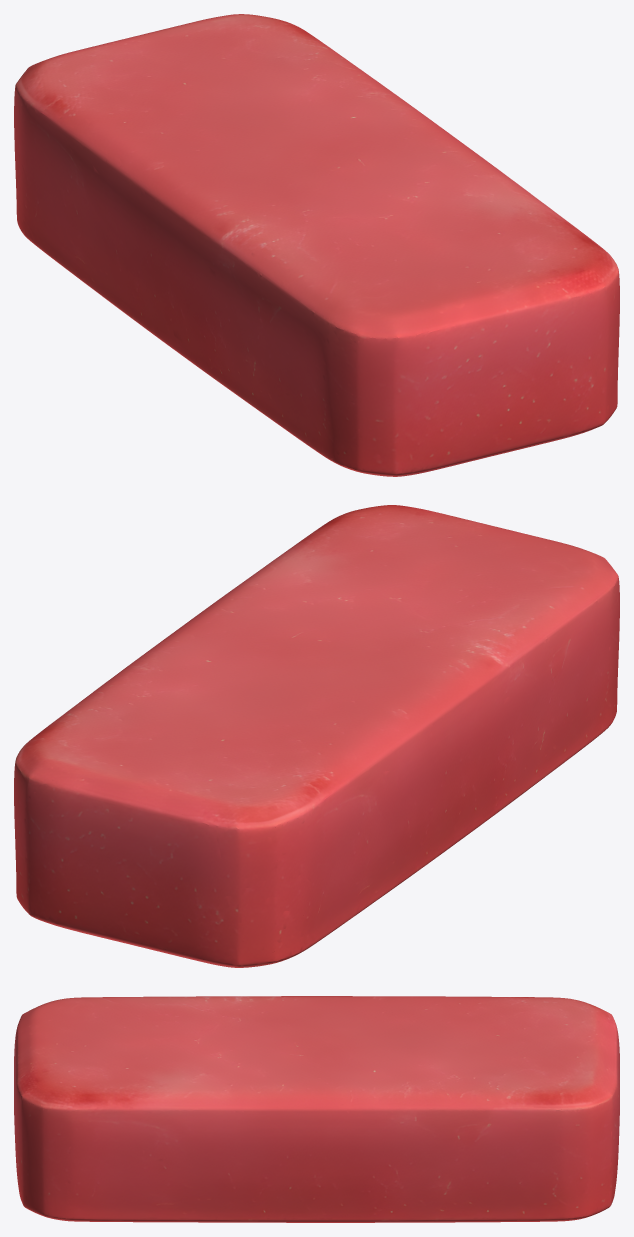
File: soap.glb
3 renders of one model, top to bottom at view 1: azimuth 30°, elevation 25°; view 2: azimuth 150°, elevation 25°; view 3: azimuth 270°, elevation 25°, orthographic. The views are drawn at different scales.
Parts seen in each view (by area): view 1: Object_2; view 2: Object_2; view 3: Object_2.
Part boxes in pixels (left/top/right/bottom): Object_2: left=14, top=14, right=619, bottom=476; Object_2: left=14, top=505, right=619, bottom=967; Object_2: left=14, top=996, right=619, bottom=1222.
Size of the model in its own units: 0.8523 by 0.4706 by 1.9.
Materials: 1 (1 with a texture image).
